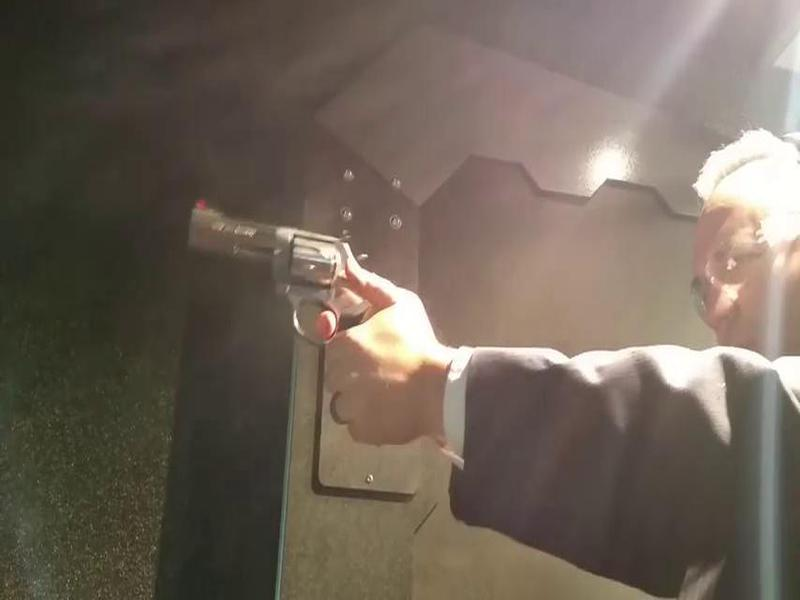Revolver: (178, 178, 419, 391)
